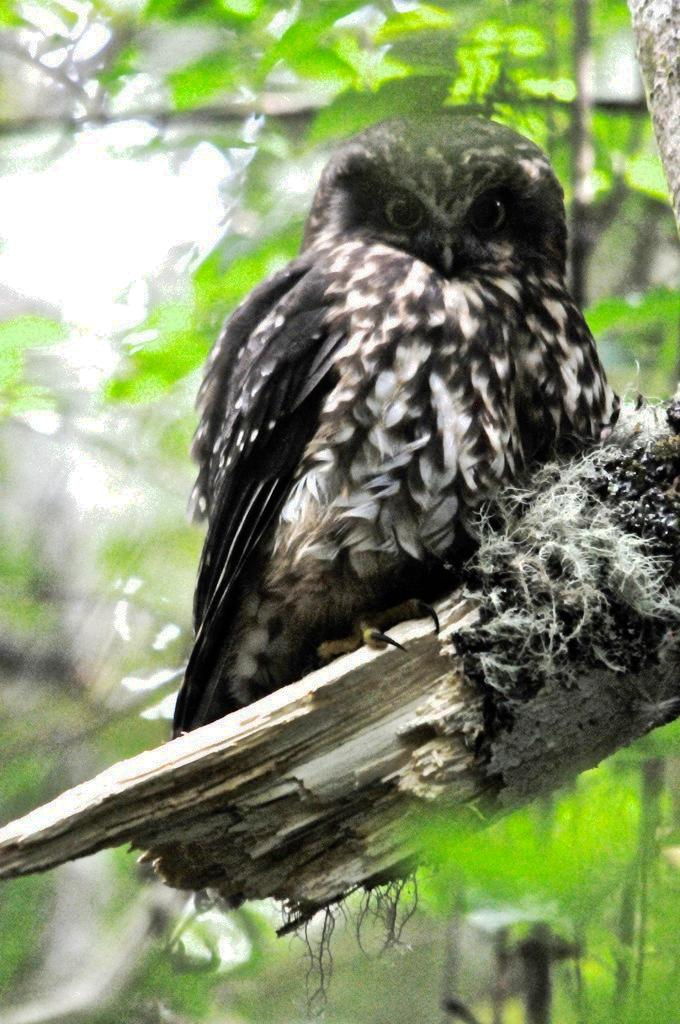Owl: (176, 113, 633, 736)
